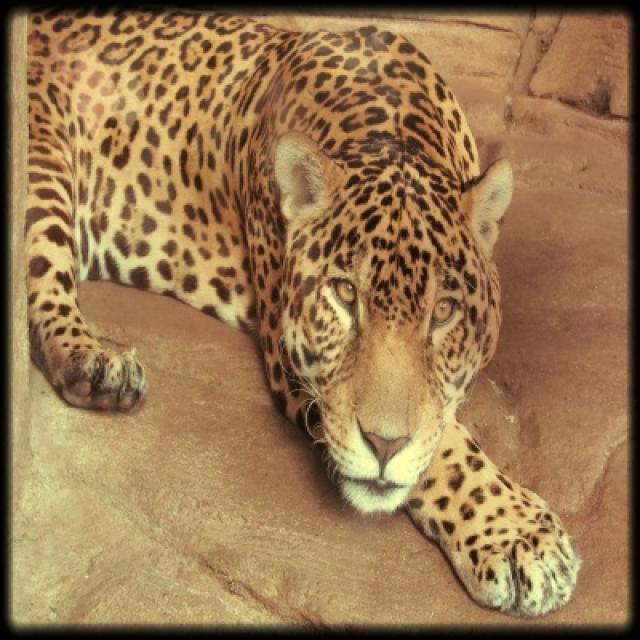Jaguar: (10, 10, 582, 616)
